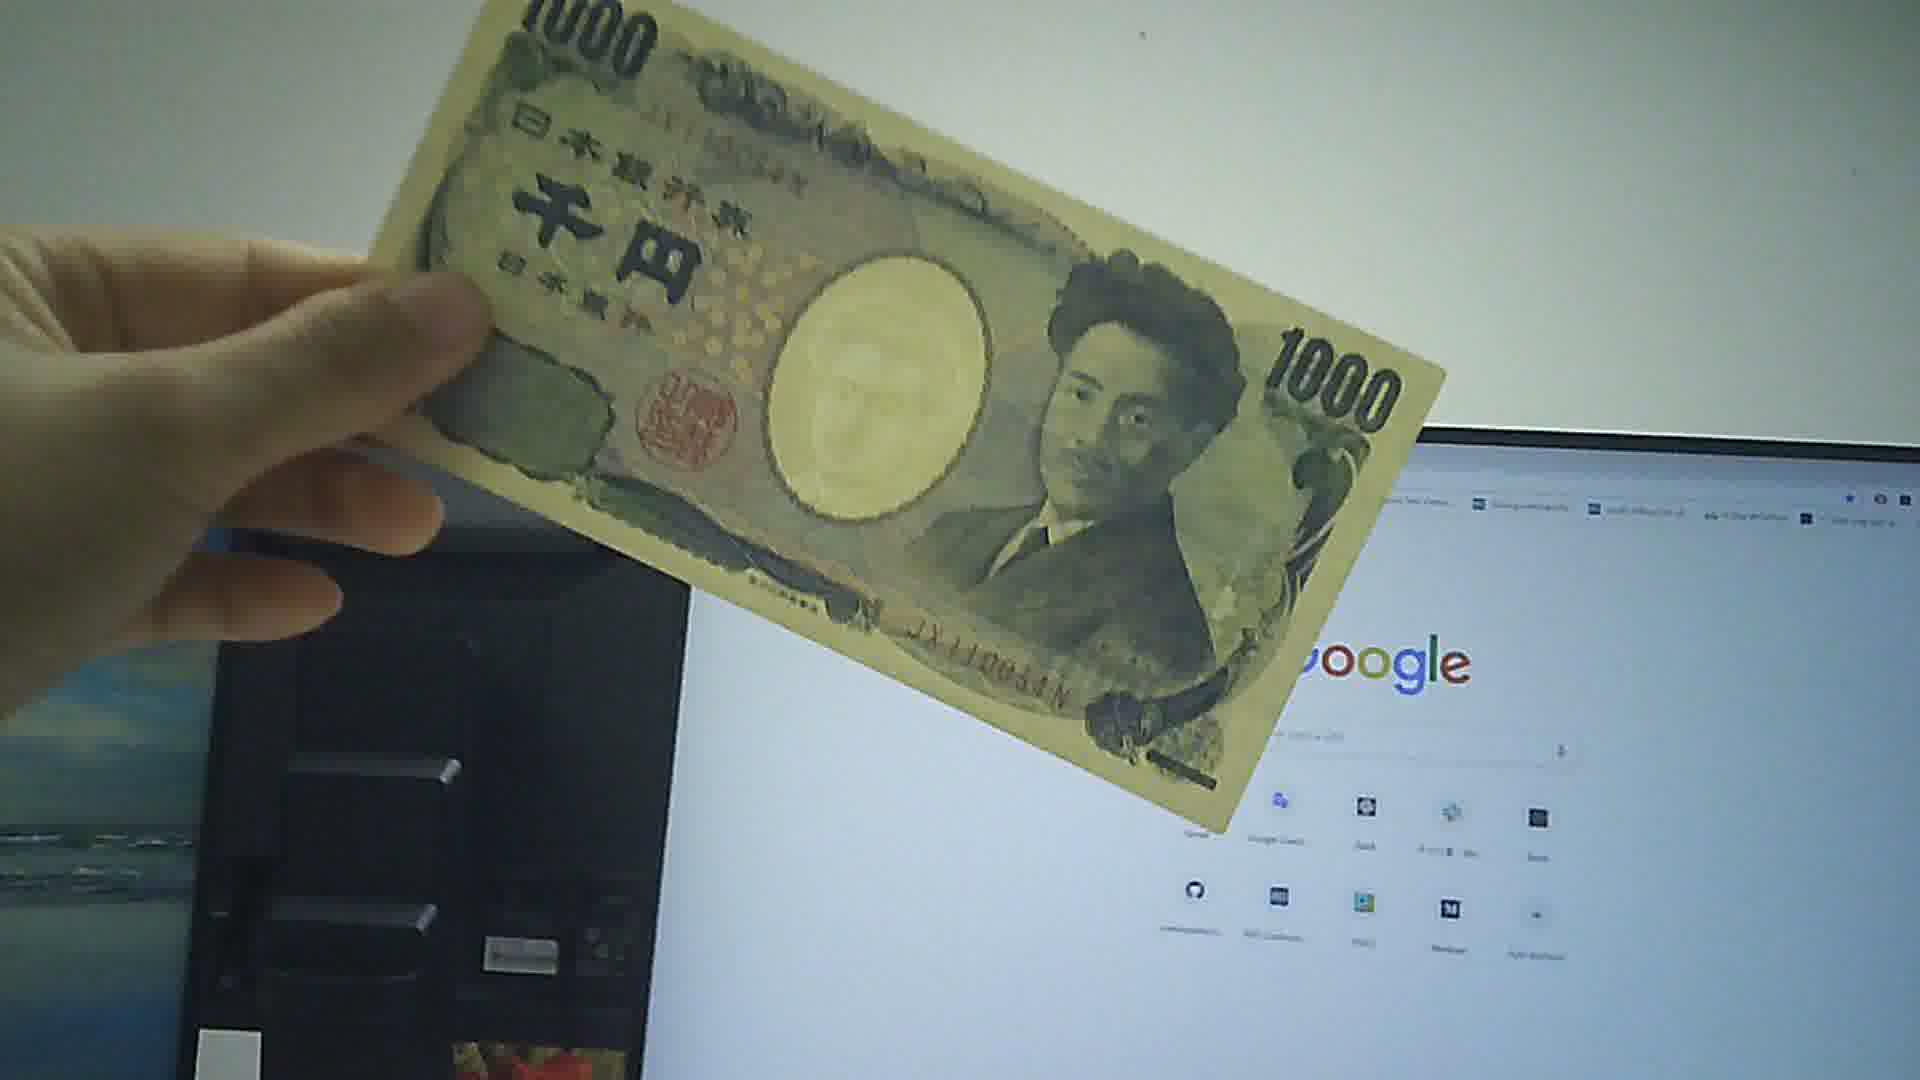1,000 Yen: (315, 1, 1439, 832)
